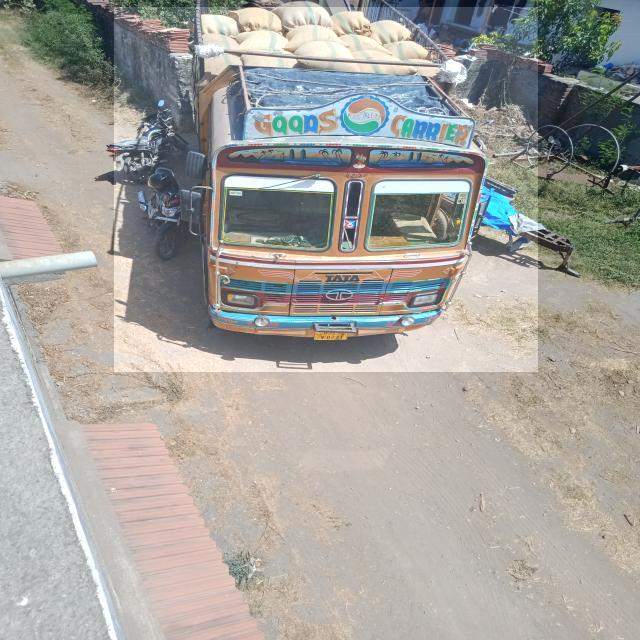Truck: (114, 7, 538, 372)
